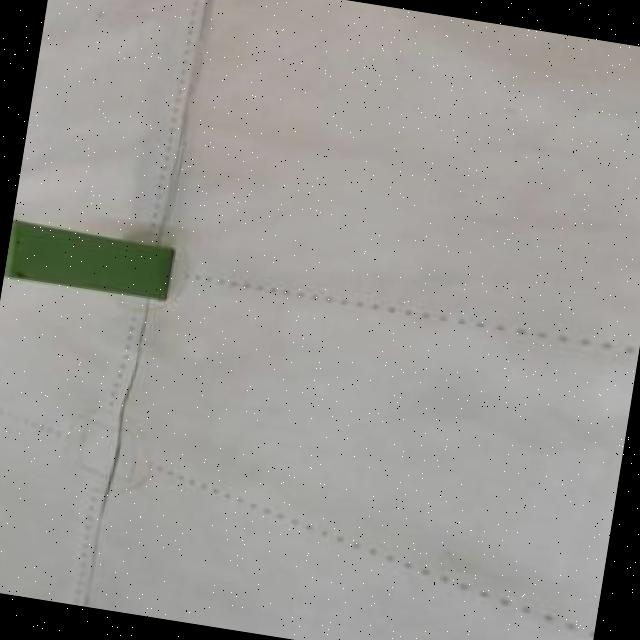greenbox: (4, 222, 178, 302)
